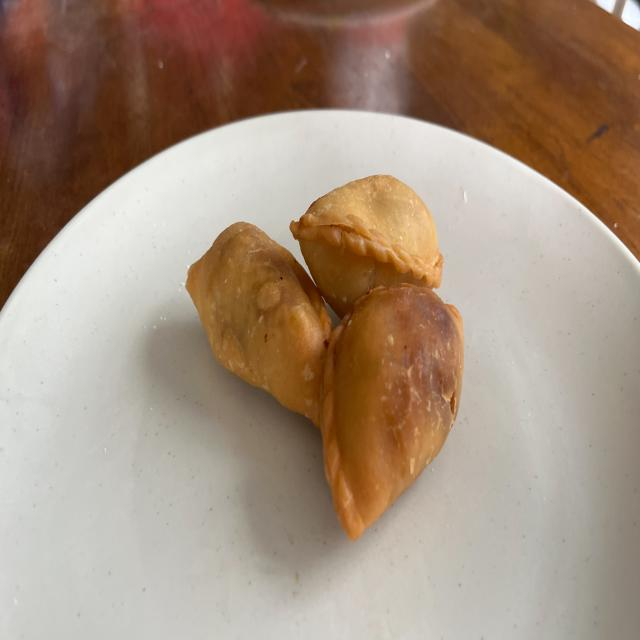karipap: (321, 284, 464, 540), (186, 222, 332, 427), (290, 176, 444, 318)
